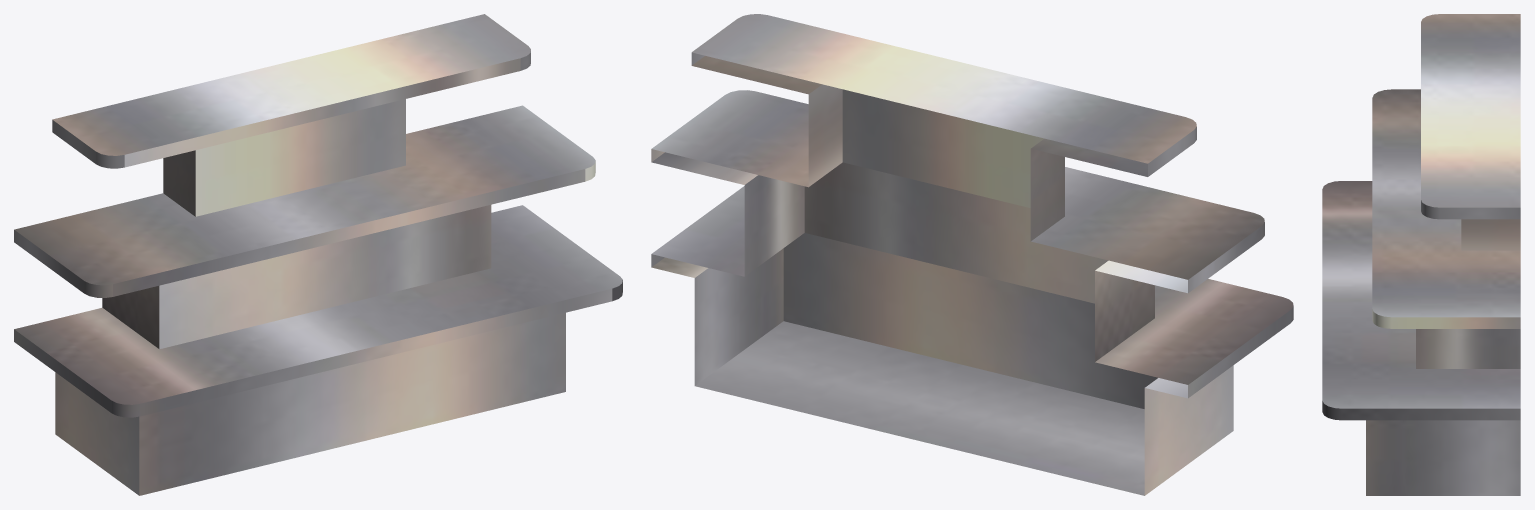
Rendered from tier_table_half.glb.
The picture shows the model from 3 angles, left to right: view 1: azimuth 30°, elevation 25°; view 2: azimuth 150°, elevation 25°; view 3: azimuth 270°, elevation 25°; orthographic projection. The views are drawn at different scales.
Parts seen in each view (by area): view 1: display_table_02; view 2: display_table_02; view 3: display_table_02.
Boxes of the visible parts, <box> form: display_table_02: <box>14,14,622,495</box>; display_table_02: <box>651,14,1293,495</box>; display_table_02: <box>1322,14,1520,495</box>.
Bounding box in the file's own units: 2.36 × 1.4 × 0.8678.
1 material, 1 textured.
